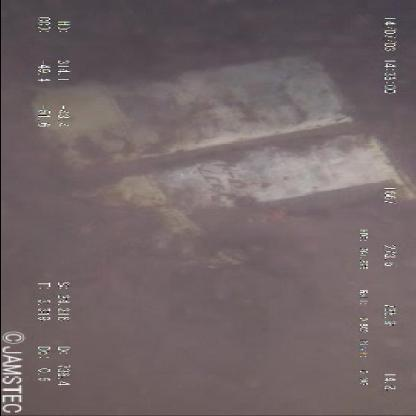Rác: (20, 40, 413, 266)
